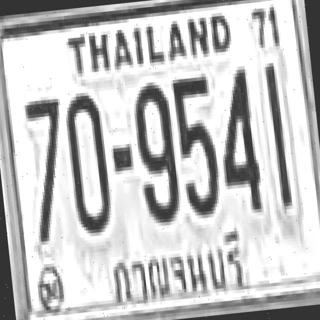N00: (62, 91, 112, 231)
N01: (263, 62, 290, 207)
N04: (211, 66, 261, 212)
N05: (170, 73, 220, 216)
N07: (22, 95, 72, 242)
N09: (130, 77, 179, 221)
P17: (104, 226, 250, 309)
